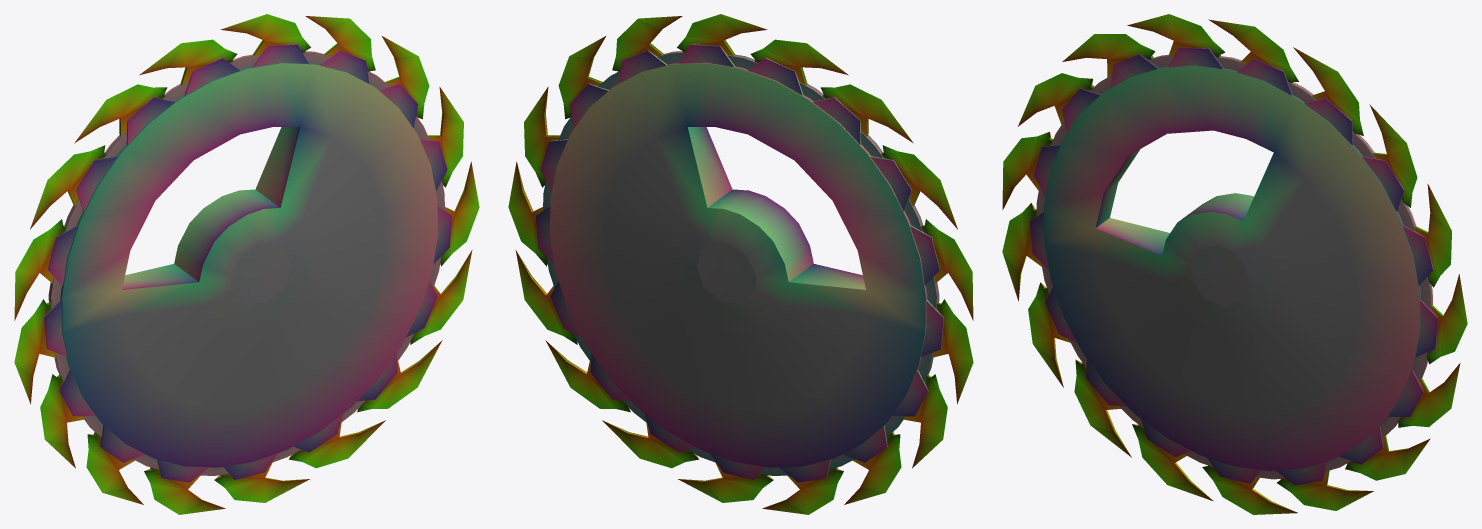
File: Eff_Corin_Saw_01.fbx
3 renders of one model, left to right at view 1: azimuth 30°, elevation 25°; view 2: azimuth 150°, elevation 25°; view 3: azimuth 330°, elevation 25°, orthographic.
Parts seen in each view (by area): view 1: Corin_weapon_01, Corin_weapon_02; view 2: Corin_weapon_01, Corin_weapon_02; view 3: Corin_weapon_01, Corin_weapon_02.
Boxes of the visible parts, x1=… form: Corin_weapon_01: x1=43, y1=44, x2=451, y2=482; Corin_weapon_02: x1=14, y1=14, x2=479, y2=514; Corin_weapon_01: x1=536, y1=44, x2=944, y2=482; Corin_weapon_02: x1=508, y1=14, x2=973, y2=514; Corin_weapon_01: x1=1029, y1=47, x2=1438, y2=485; Corin_weapon_02: x1=1002, y1=14, x2=1467, y2=514.
Bounding box in the file's own units: 0.4925 × 0.4943 × 0.054.
